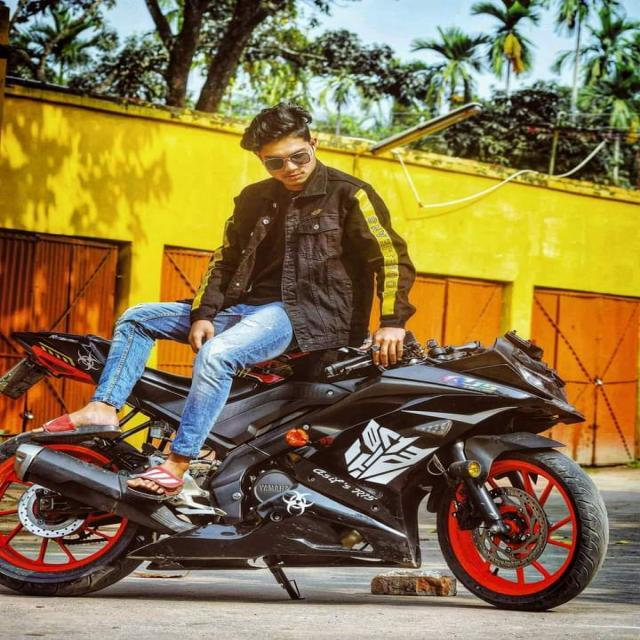No helmet: (241, 97, 320, 198)
